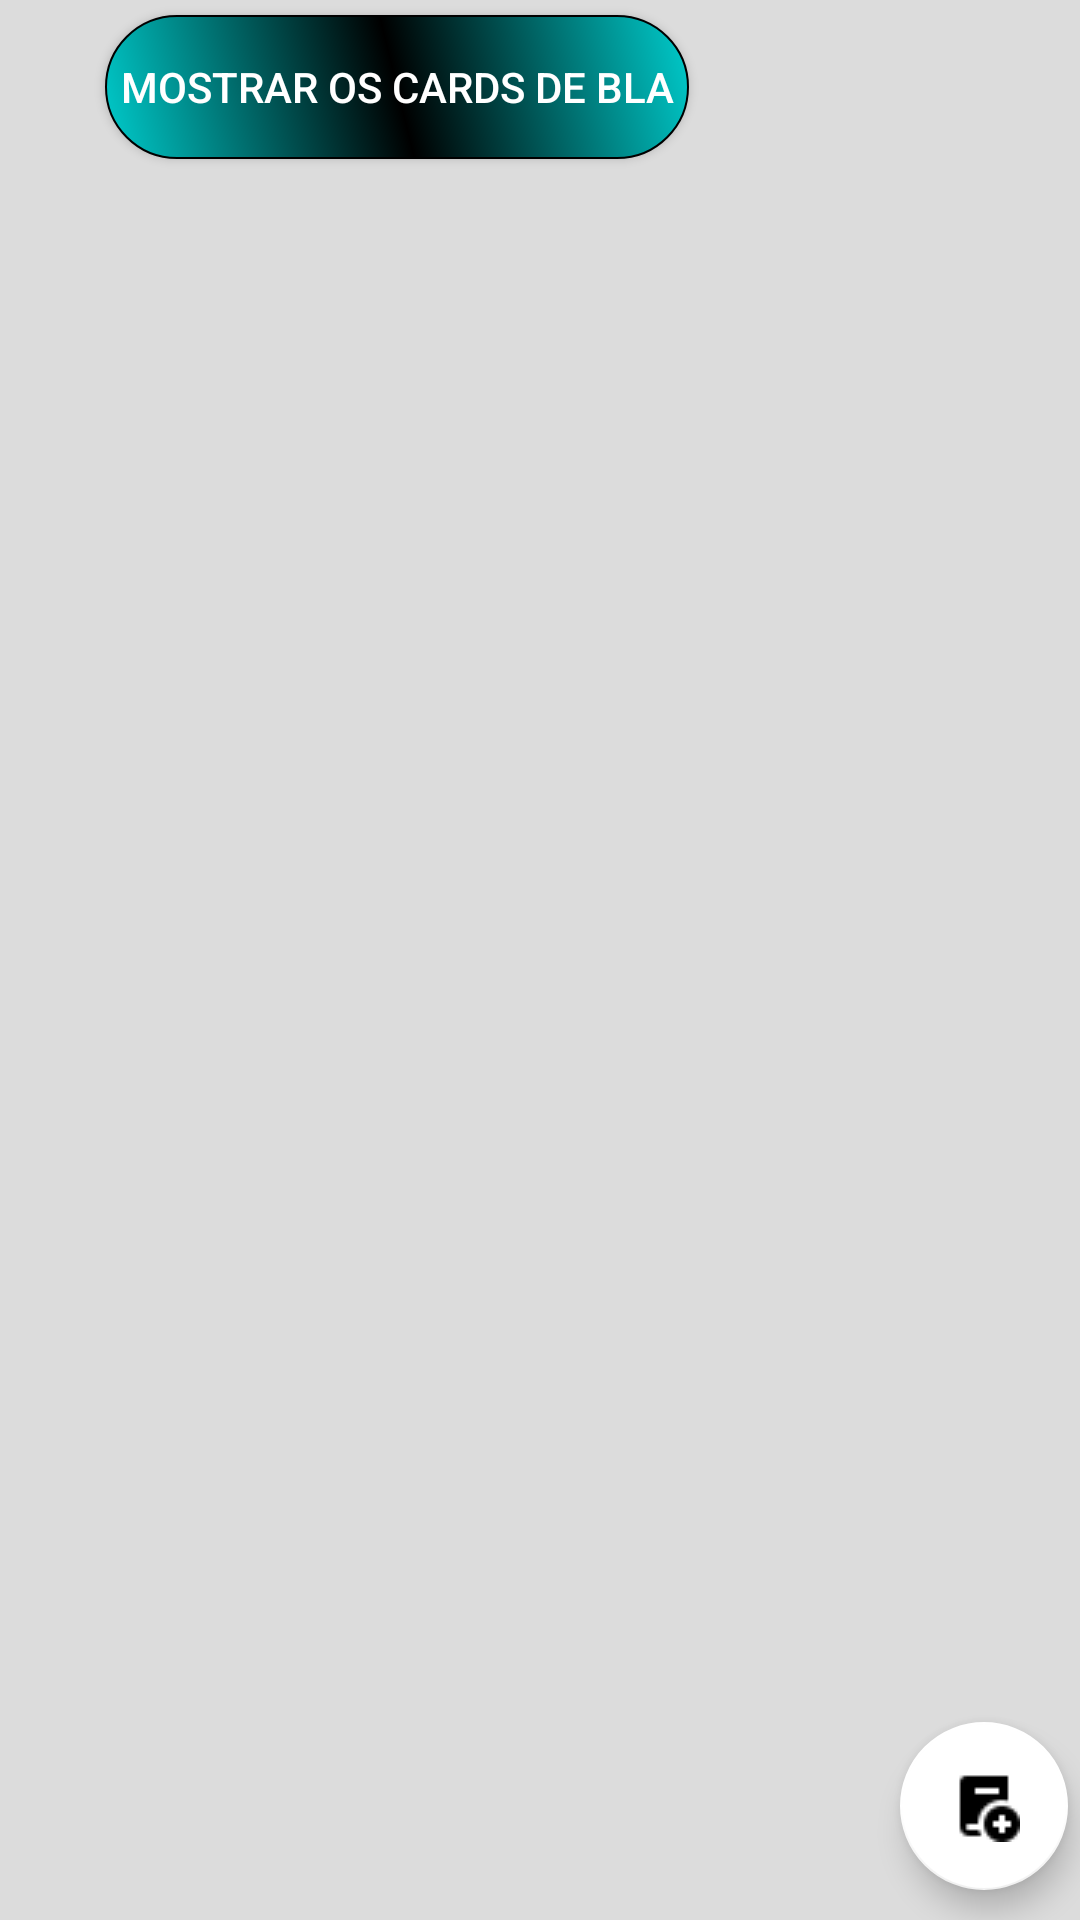

Point at icon controls on the screen. Image size 1080px x 1920px, points as (x,y).
add: (984,1806)
